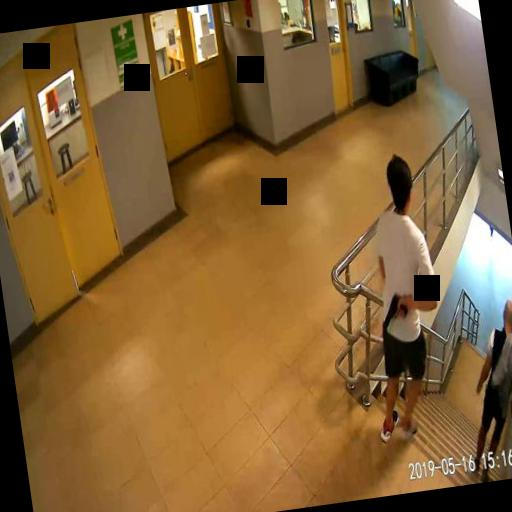Handgun: (378, 291, 410, 329)
